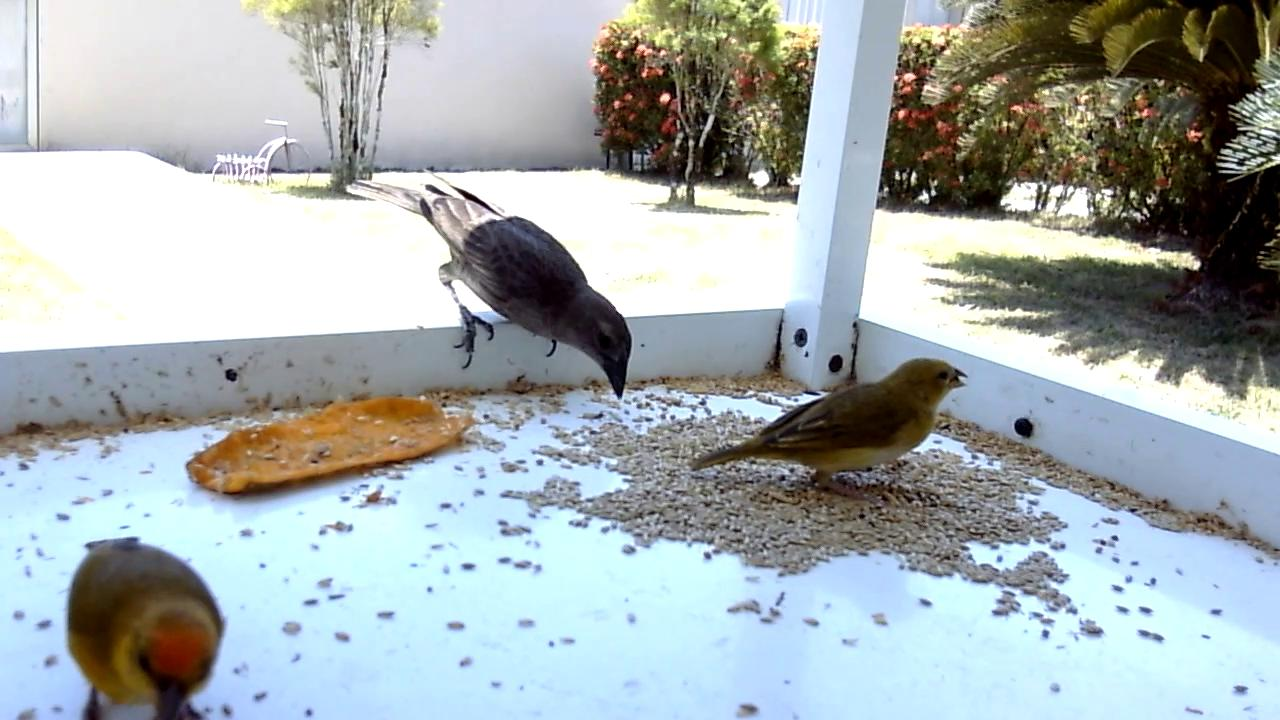canario_do_amazonas: (687, 355, 971, 503), (63, 535, 228, 720)
chupim: (343, 167, 635, 404)
